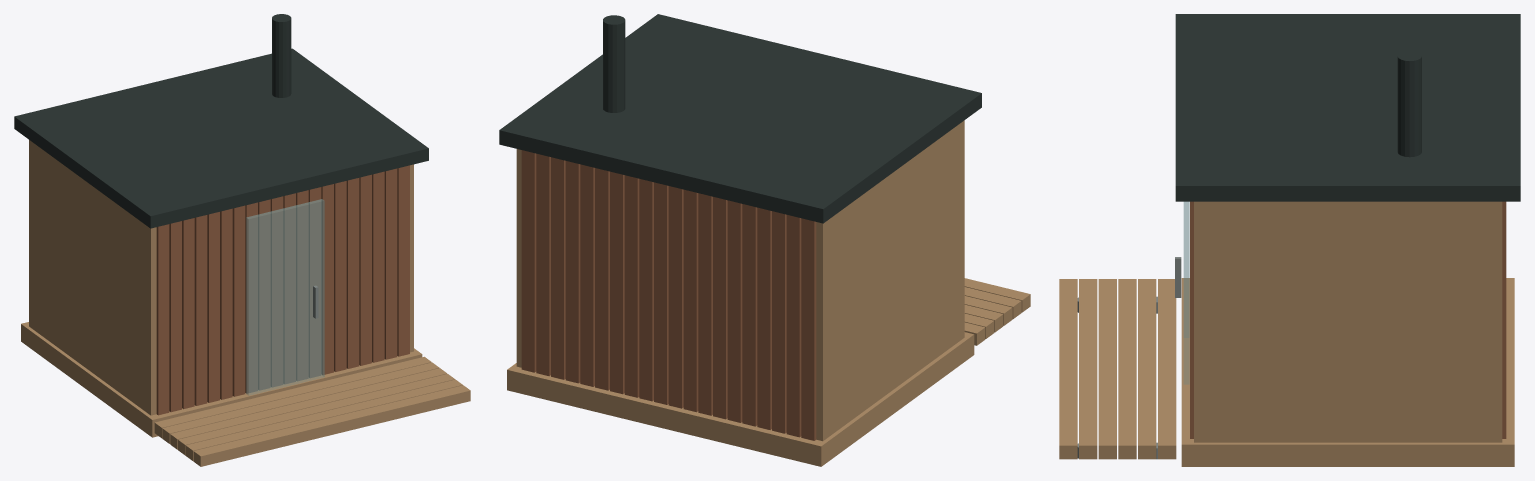
Rendered from sauna.glb.
3 renders of one model, left to right at view 1: azimuth 30°, elevation 25°; view 2: azimuth 150°, elevation 25°; view 3: azimuth 270°, elevation 25°, orthographic. The views are drawn at different scales.
Visible parts, largest first — view 1: sauna_Cedr, sauna_Modrin, sauna_Antracit, sauna_Sklo; view 2: sauna_Cedr, sauna_Antracit, sauna_Modrin; view 3: sauna_Modrin, sauna_Antracit, sauna_Cedr, sauna_Sklo.
Part boxes in pixels (left/top/right/bottom): sauna_Cedr: left=156, top=165, right=409, bottom=415; sauna_Modrin: left=21, top=140, right=470, bottom=466; sauna_Antracit: left=14, top=14, right=428, bottom=228; sauna_Sklo: left=246, top=199, right=324, bottom=395; sauna_Cedr: left=521, top=150, right=816, bottom=440; sauna_Antracit: left=499, top=14, right=981, bottom=223; sauna_Modrin: left=507, top=120, right=1030, bottom=466; sauna_Modrin: left=1059, top=201, right=1514, bottom=466; sauna_Antracit: left=1175, top=14, right=1520, bottom=201; sauna_Cedr: left=1190, top=201, right=1506, bottom=438; sauna_Sklo: left=1183, top=201, right=1189, bottom=384.
Size of the model in its own units: 3.3 by 3.4 by 3.74.
